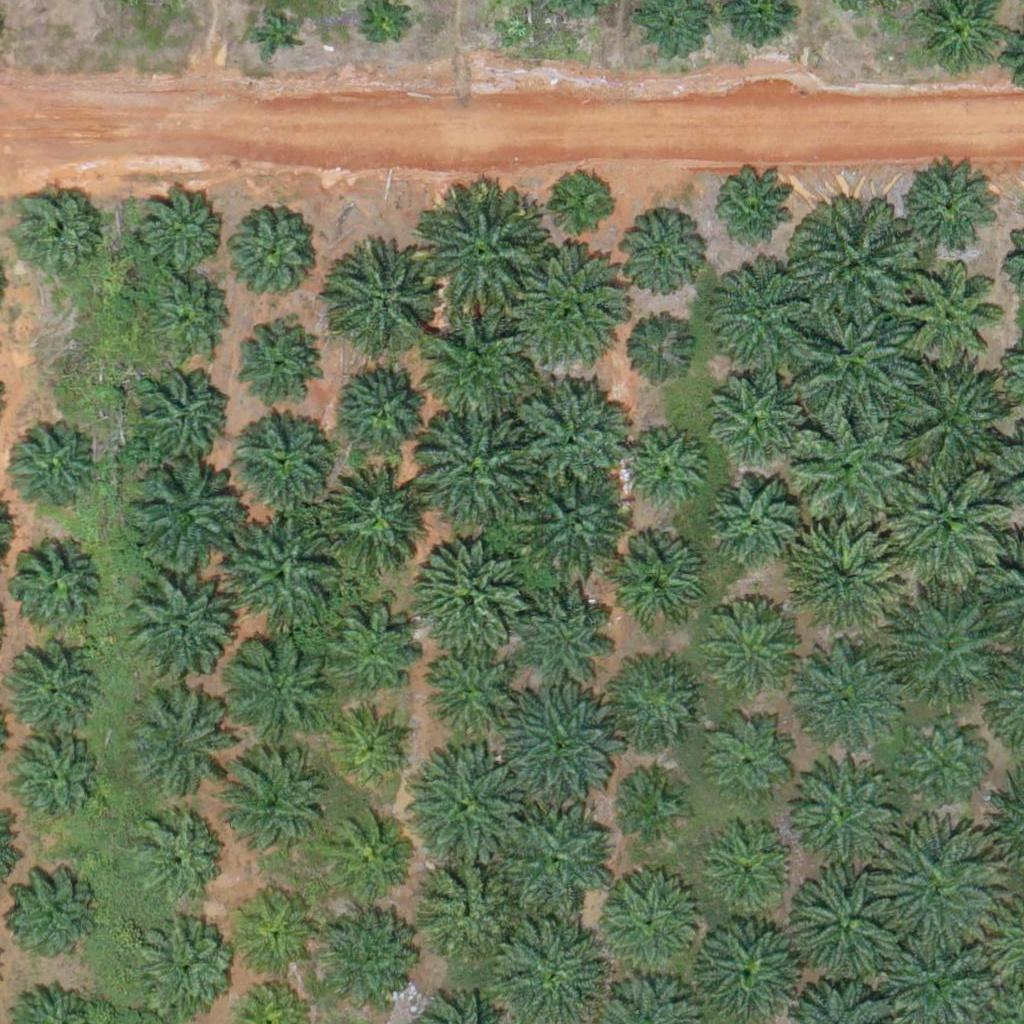Kelapa_Sawit: (869, 822, 994, 948), (891, 461, 1016, 587), (790, 201, 915, 327), (420, 196, 545, 322), (794, 295, 919, 420), (784, 523, 897, 637), (788, 868, 901, 982), (520, 251, 633, 365), (316, 464, 429, 578), (894, 594, 1007, 707), (795, 408, 908, 521), (788, 757, 901, 870), (709, 256, 822, 369), (596, 871, 709, 984), (502, 686, 615, 799), (423, 314, 536, 427), (414, 415, 527, 528), (411, 535, 524, 648), (309, 595, 422, 708), (419, 753, 531, 867), (221, 629, 333, 743), (218, 745, 330, 859), (127, 461, 239, 575), (896, 361, 1008, 474), (786, 646, 898, 759), (501, 804, 613, 917), (520, 466, 632, 579), (515, 379, 627, 492), (226, 520, 338, 633), (903, 270, 1003, 371), (901, 159, 1001, 260), (518, 573, 618, 674), (338, 357, 438, 458), (222, 201, 322, 302), (122, 693, 222, 794), (3, 642, 103, 743), (4, 731, 104, 832), (607, 535, 707, 635), (422, 856, 522, 956), (333, 255, 433, 355), (235, 411, 335, 511), (131, 913, 231, 1013), (126, 580, 226, 680), (131, 364, 231, 464), (7, 536, 107, 636), (617, 213, 705, 302), (321, 916, 409, 1005), (328, 703, 416, 791), (704, 825, 792, 913), (708, 371, 796, 459), (618, 425, 706, 513), (417, 649, 505, 737), (320, 815, 408, 903), (229, 317, 317, 405), (131, 811, 219, 899), (11, 186, 99, 274), (709, 167, 796, 255), (711, 601, 798, 689), (710, 475, 797, 563), (612, 656, 699, 744), (233, 891, 320, 979), (149, 272, 236, 360), (137, 189, 224, 277), (8, 870, 95, 958), (619, 318, 694, 394), (714, 727, 789, 803), (908, 717, 983, 792), (553, 170, 616, 233), (621, 775, 684, 838), (250, 9, 300, 60)
